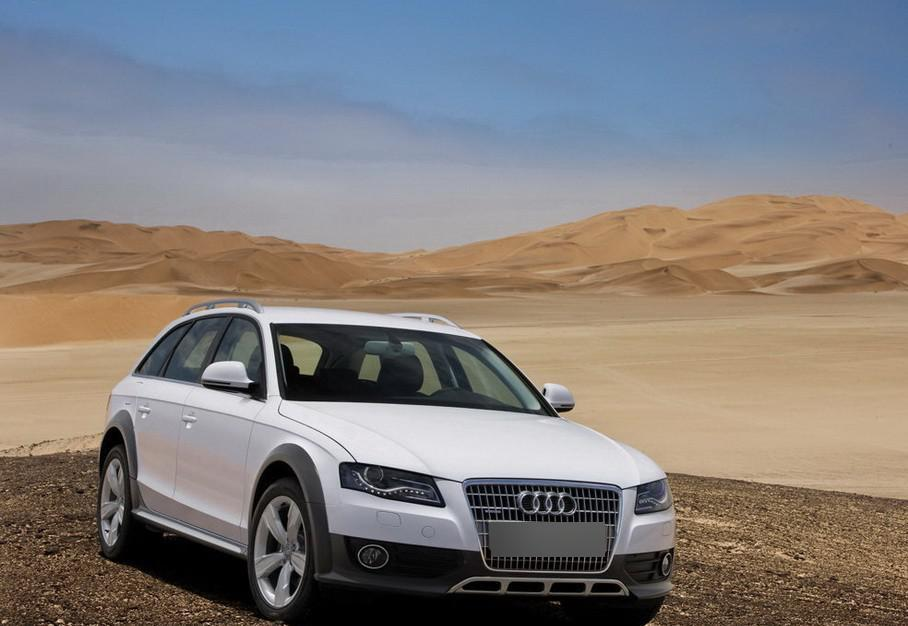Wagon: (94, 295, 679, 626)
